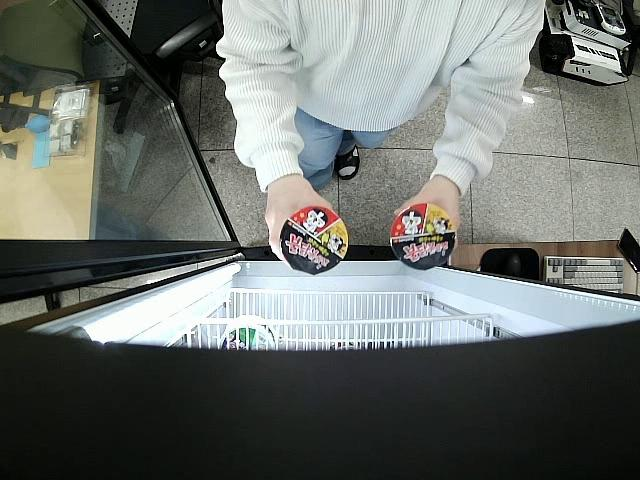00_hand: (264, 182, 337, 270), (393, 187, 459, 234)
08_buldak_S: (279, 206, 350, 275), (389, 202, 457, 271)
